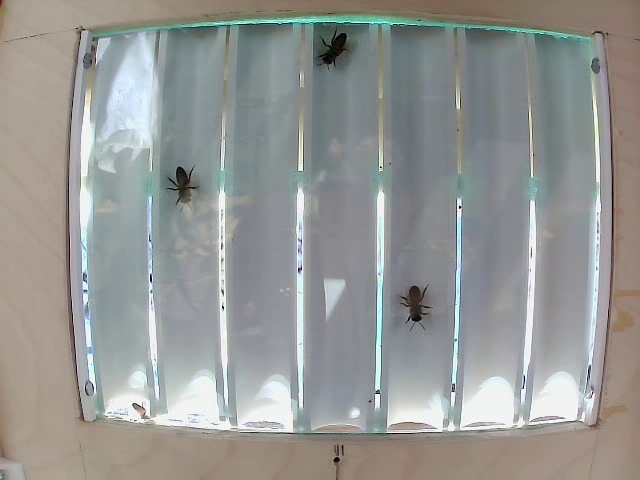bee: (310, 18, 358, 71), (397, 259, 433, 328), (153, 162, 197, 207)
